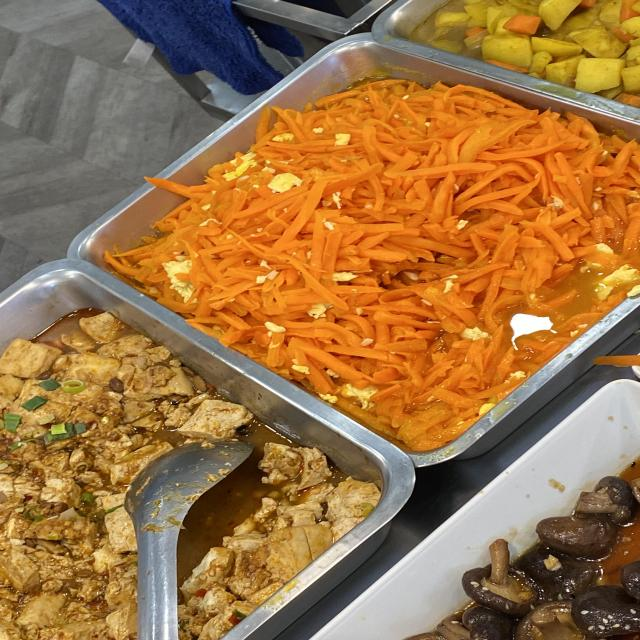Scrambled eggs with carrots: (258, 135, 590, 326)
